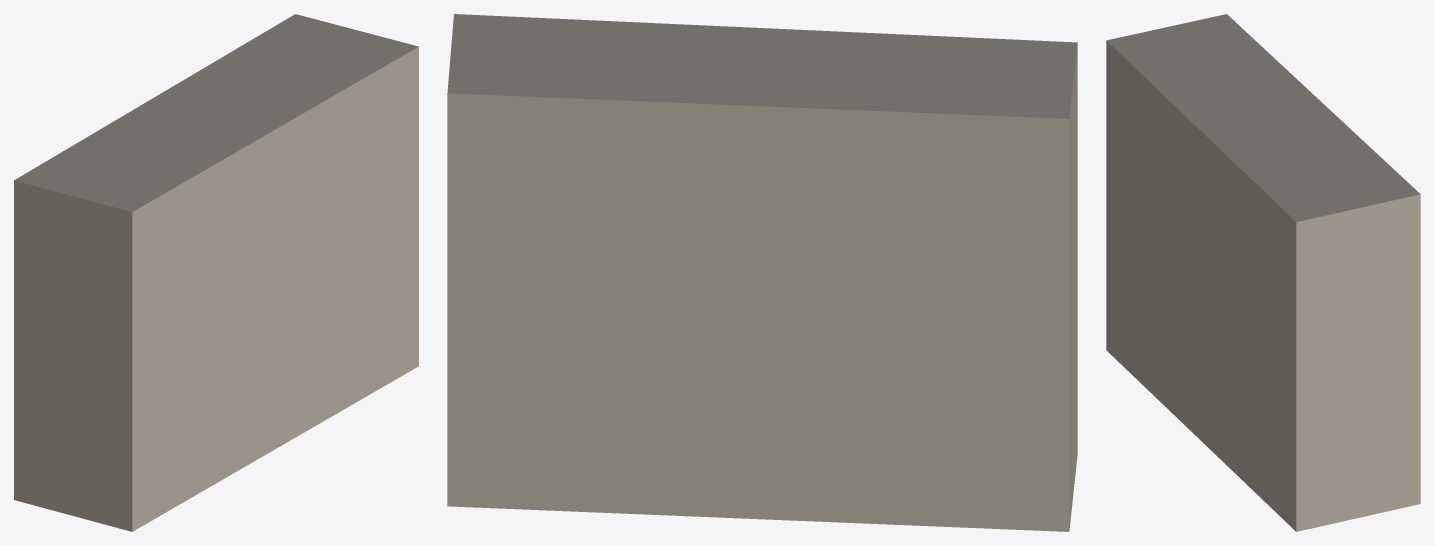
3 renders of one model, left to right at view 1: azimuth 30°, elevation 25°; view 2: azimuth 150°, elevation 25°; view 3: azimuth 270°, elevation 25°, orthographic. The views are drawn at different scales.
Visible parts, largest first — view 1: HP-w505633346; view 2: HP-w505633346; view 3: HP-w505633346.
Part boxes in pixels (<box>): HP-w505633346: <box>14,14,418,531</box>; HP-w505633346: <box>447,14,1077,531</box>; HP-w505633346: <box>1106,14,1420,531</box>.
Size of the model in its own units: 25.96 by 18 by 16.56.
